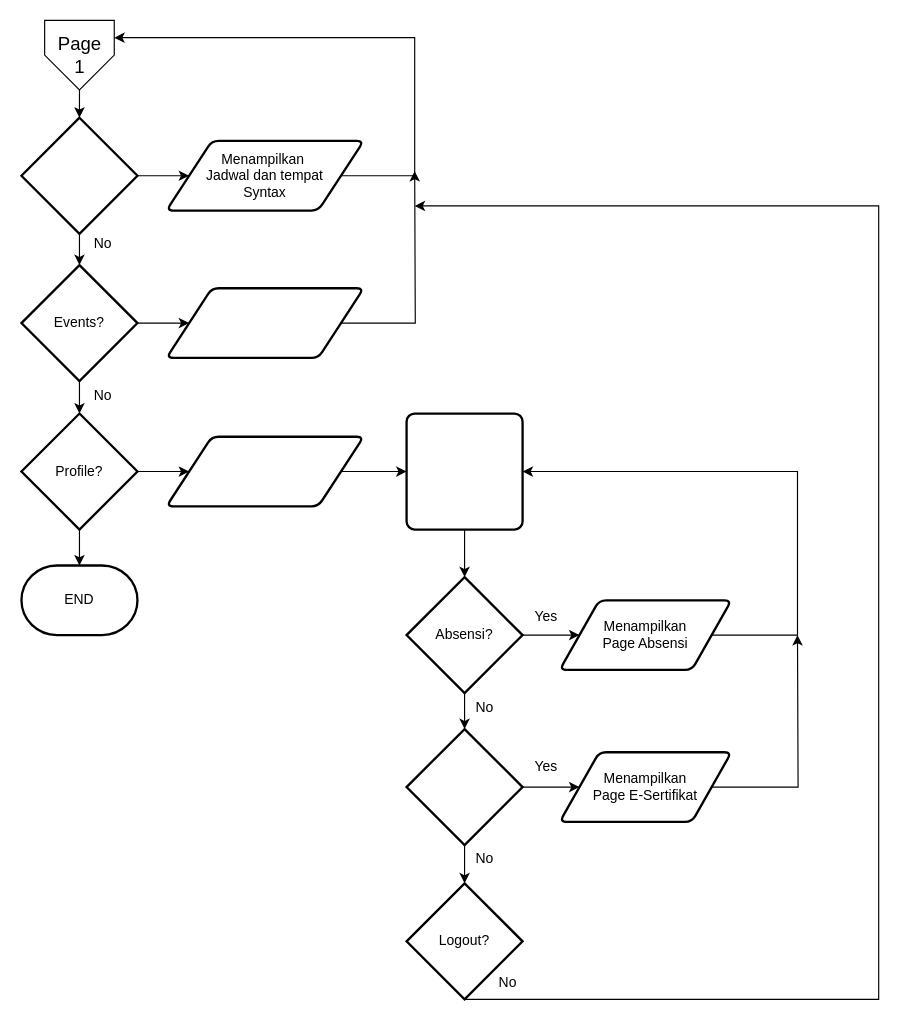
Some shapes in this 908 by 1029 pixel diagram are drawn without their labels. Here are the shapes that lost their labels. From the top down, the centre of each, then its label:
pixel 79 175: Schedule?
pixel 264 322: Menampilkan Jadwal Events Syntax
pixel 264 471: Menampilkan Data Profile Akun
pixel 464 471: 1. Absensi 2. E-Sertifikat 3. Logout
pixel 464 786: E-Sertifikat?
